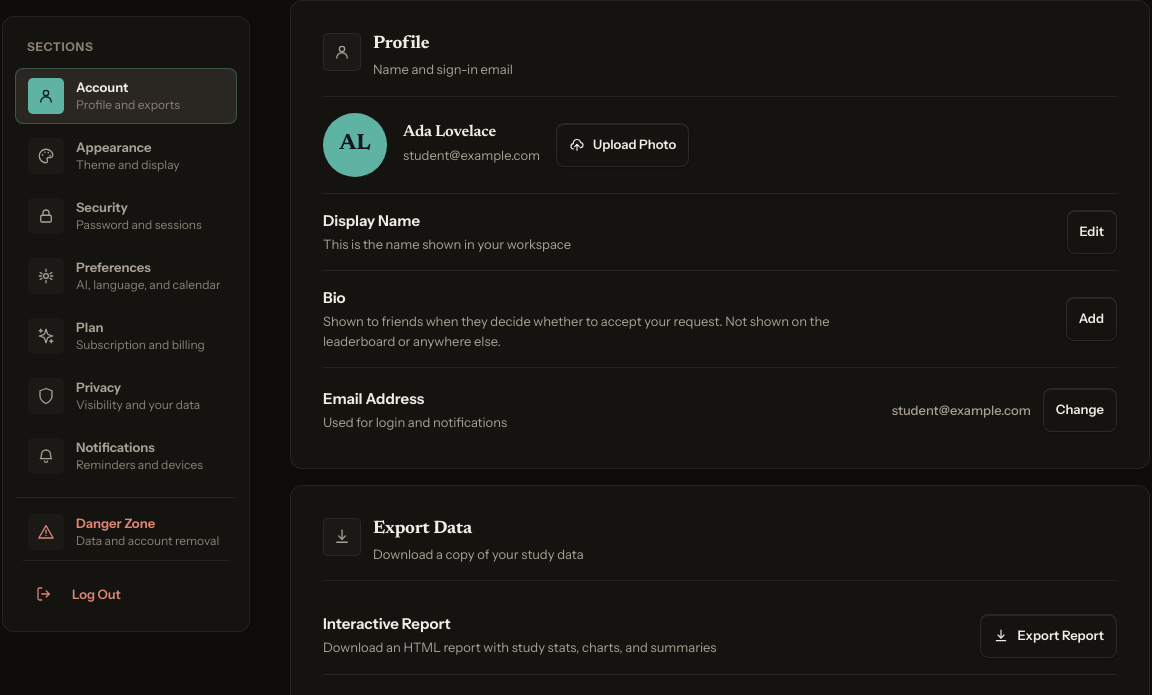
Scenario: SettingsView › discards a tab's in-progress edit when you leave and come back
Step 1. Click the button "Edit" → [1092, 232], box [1066,210,1117,254]
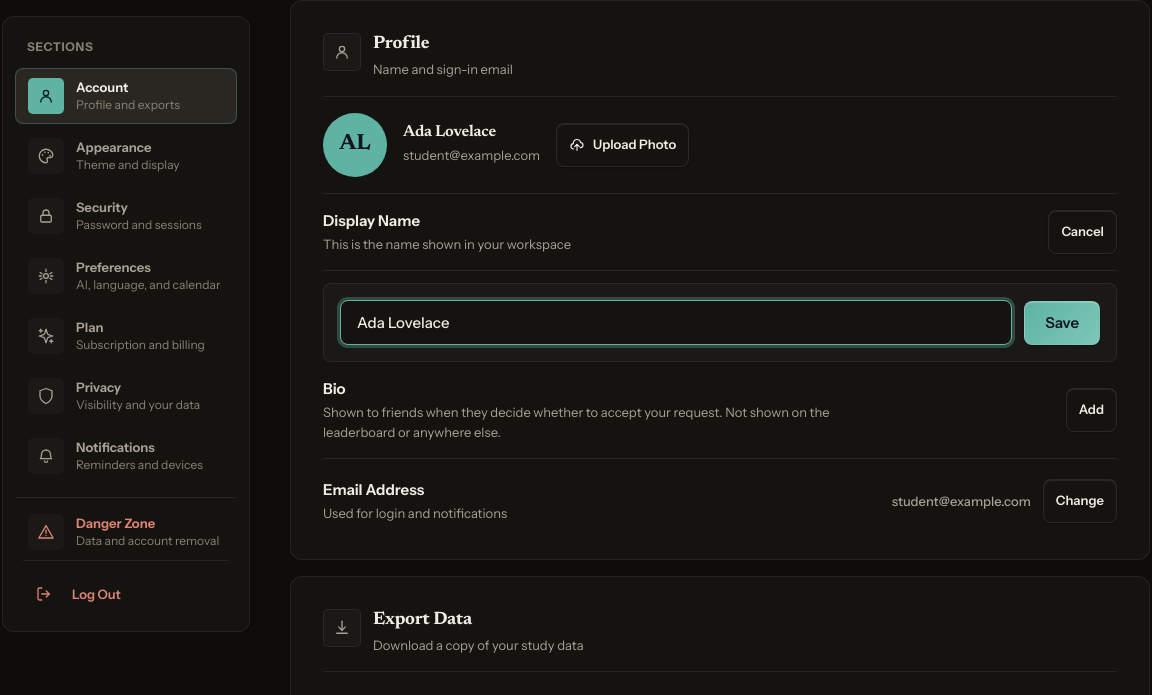
Step 2. Replace the text in the field labelled "Display Name" with "Half typed" → [676, 322], box [340,300,1012,345]
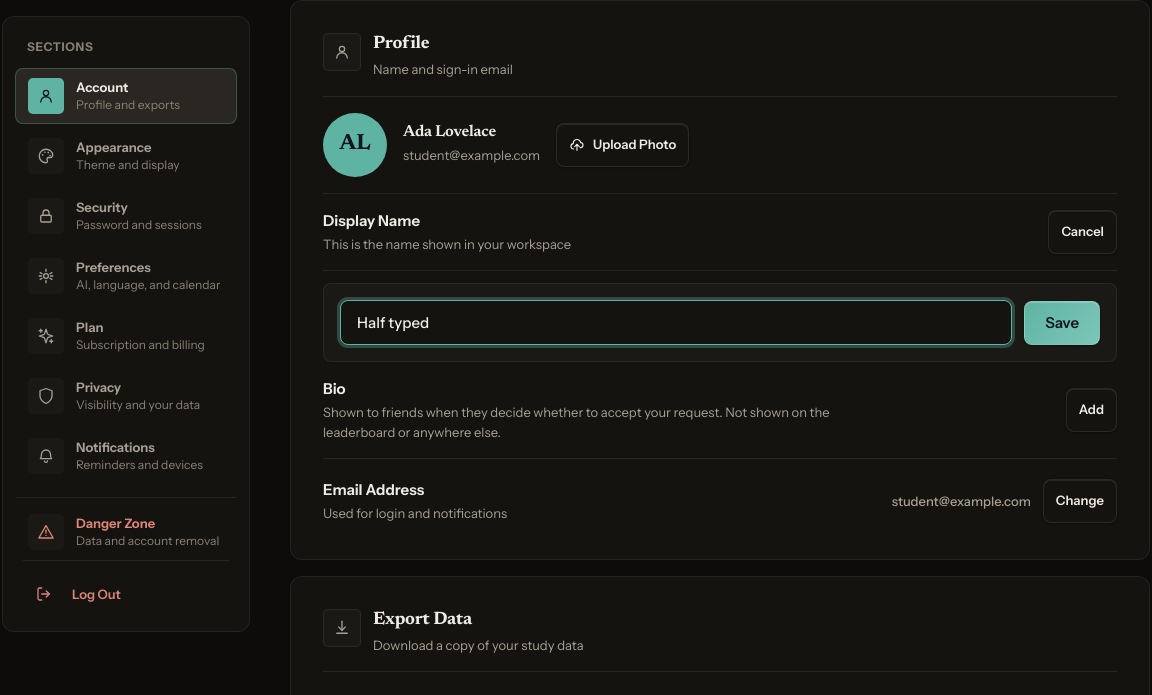
Step 3. Click the tab "Security Password and sessions" → [126, 216], box [15,188,237,244]
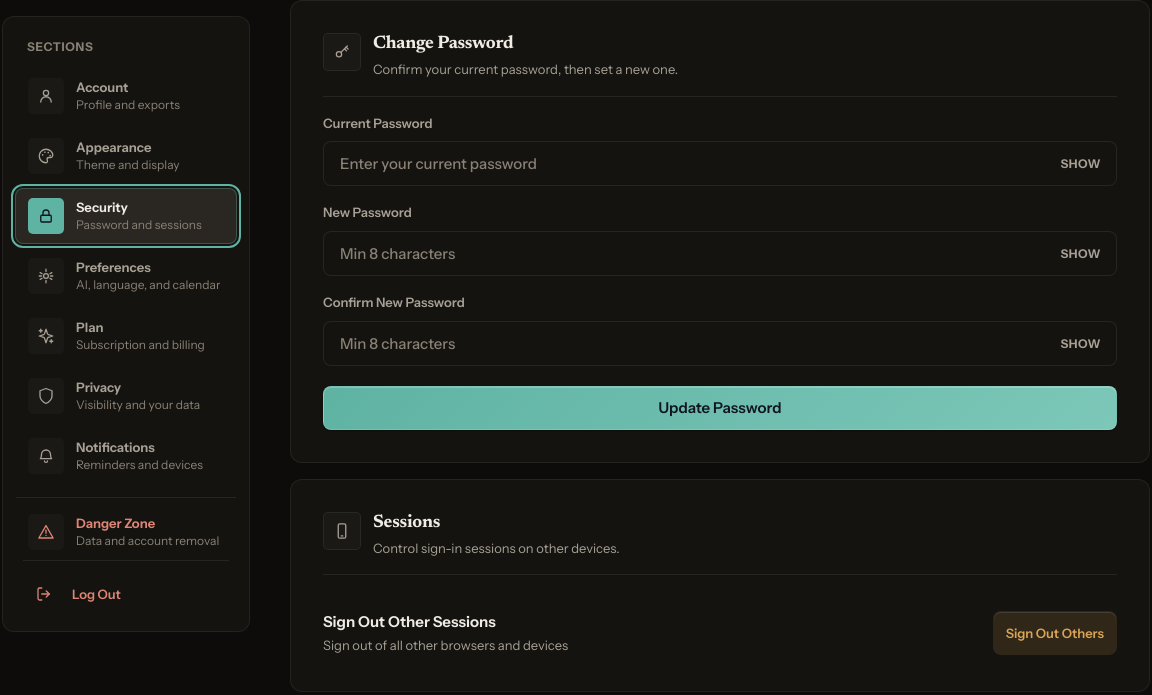
Step 4. Click the tab "Account Profile and exports" → [126, 96], box [15,68,237,124]
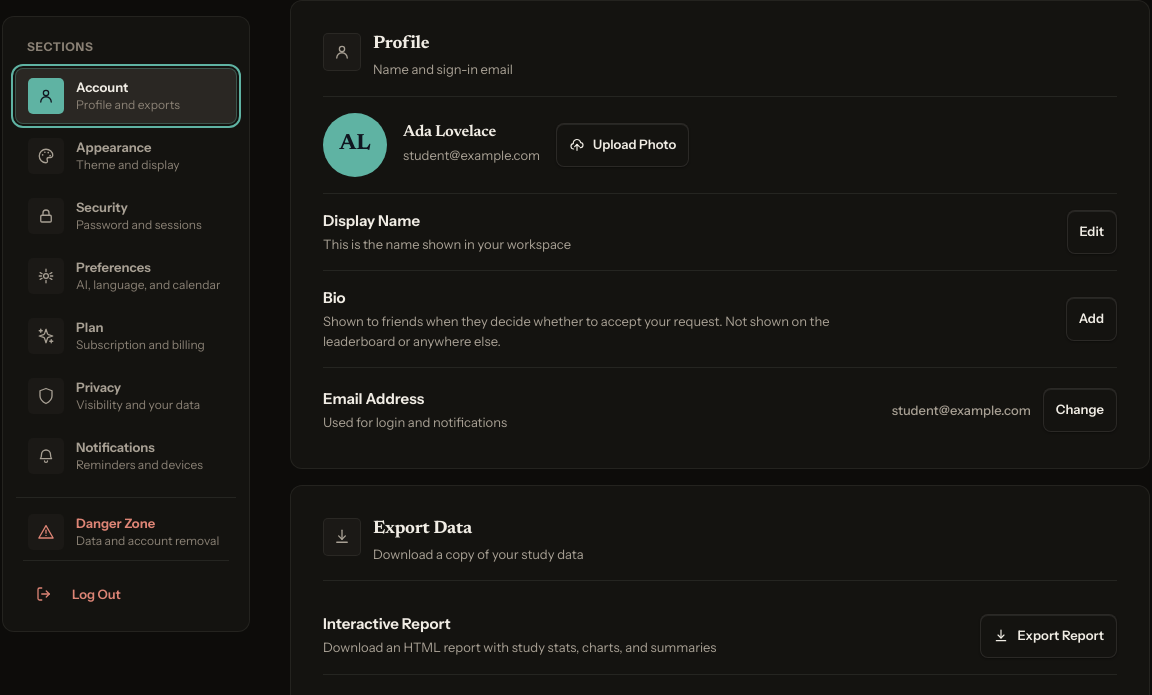
Expected: the field showing "Half typed" is not shown
Expected: the button "Edit" is shown, [1066,210,1117,254]
